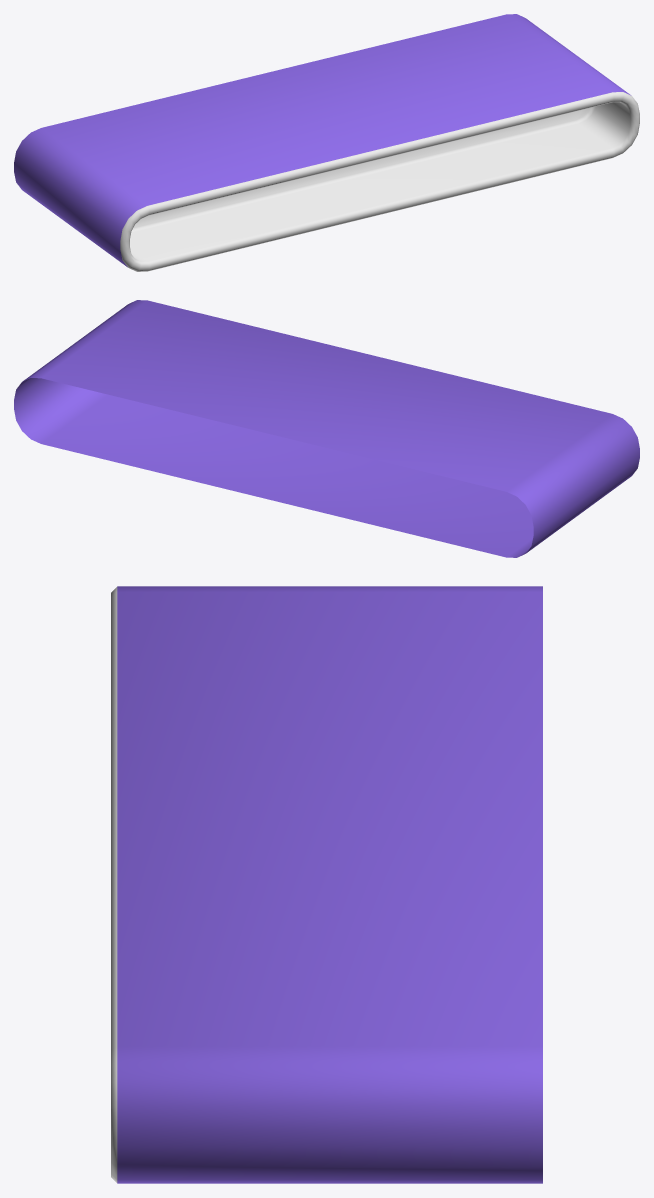
File: TapisRoulant.fbx
The picture shows the model from 3 angles, top to bottom: view 1: azimuth 30°, elevation 25°; view 2: azimuth 150°, elevation 25°; view 3: azimuth 270°, elevation 25°; orthographic projection. The views are drawn at different scales.
Parts seen in each view (by area): view 1: Cube.020; view 2: Cube.020; view 3: Cube.020.
Boxes of the visible parts, x1,y1,x2,y2 form: Cube.020: (14,14,639,271); Cube.020: (14,300,639,557); Cube.020: (111,586,542,1183).
Size of the model in its own units: 76.79 by 9.29 by 27.63.
